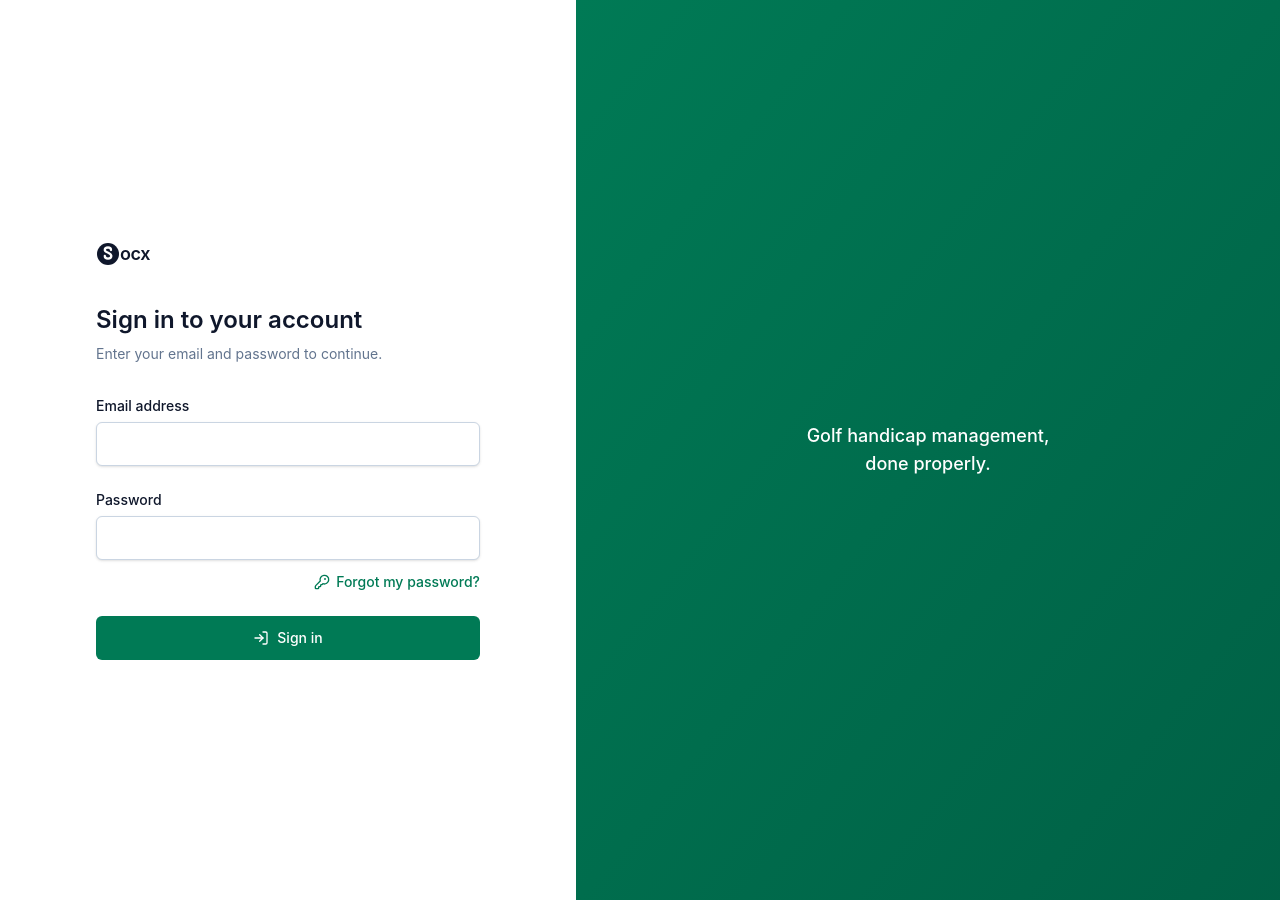
it: LoginPage › shows a form-level error for invalid credentials, using the API's own message (acceptance criterion)
Type "a@example.com" into the field labelled "Email address" at (288, 444), box [96,422,480,466]
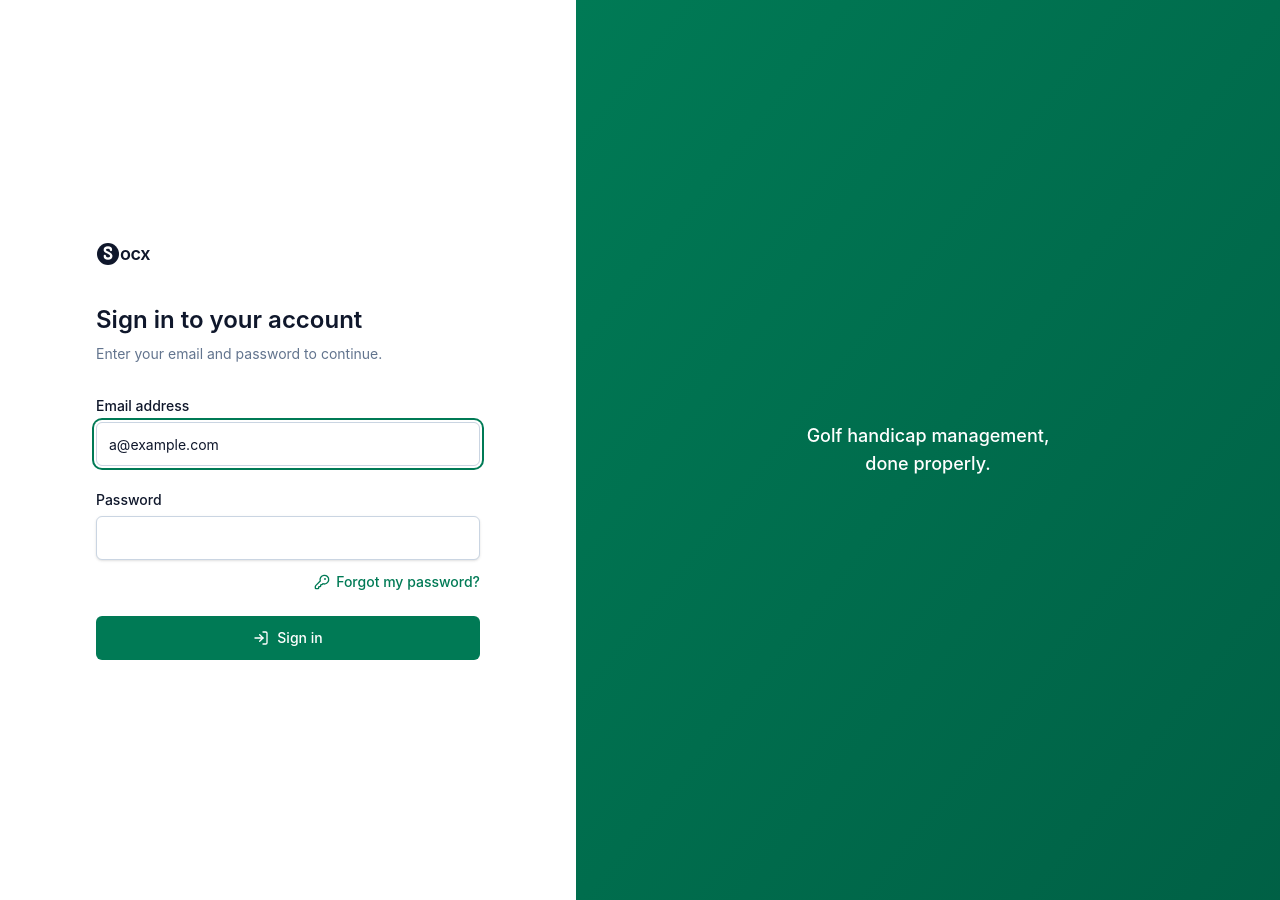
Type "wrong" into the password field labelled "Password" at (288, 538), box [96,516,480,560]
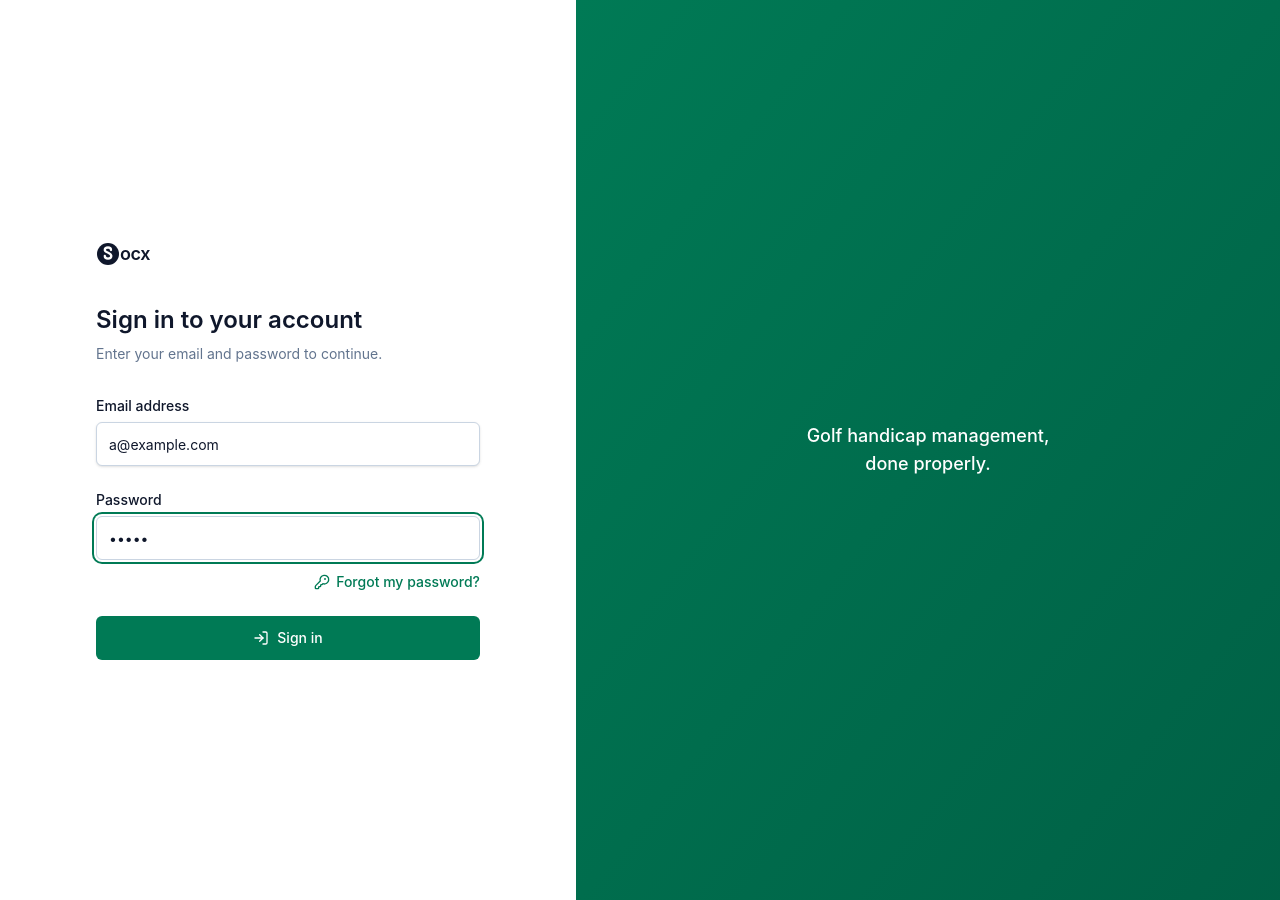
Click the button "Sign in" at (288, 638), box [96,616,480,660]
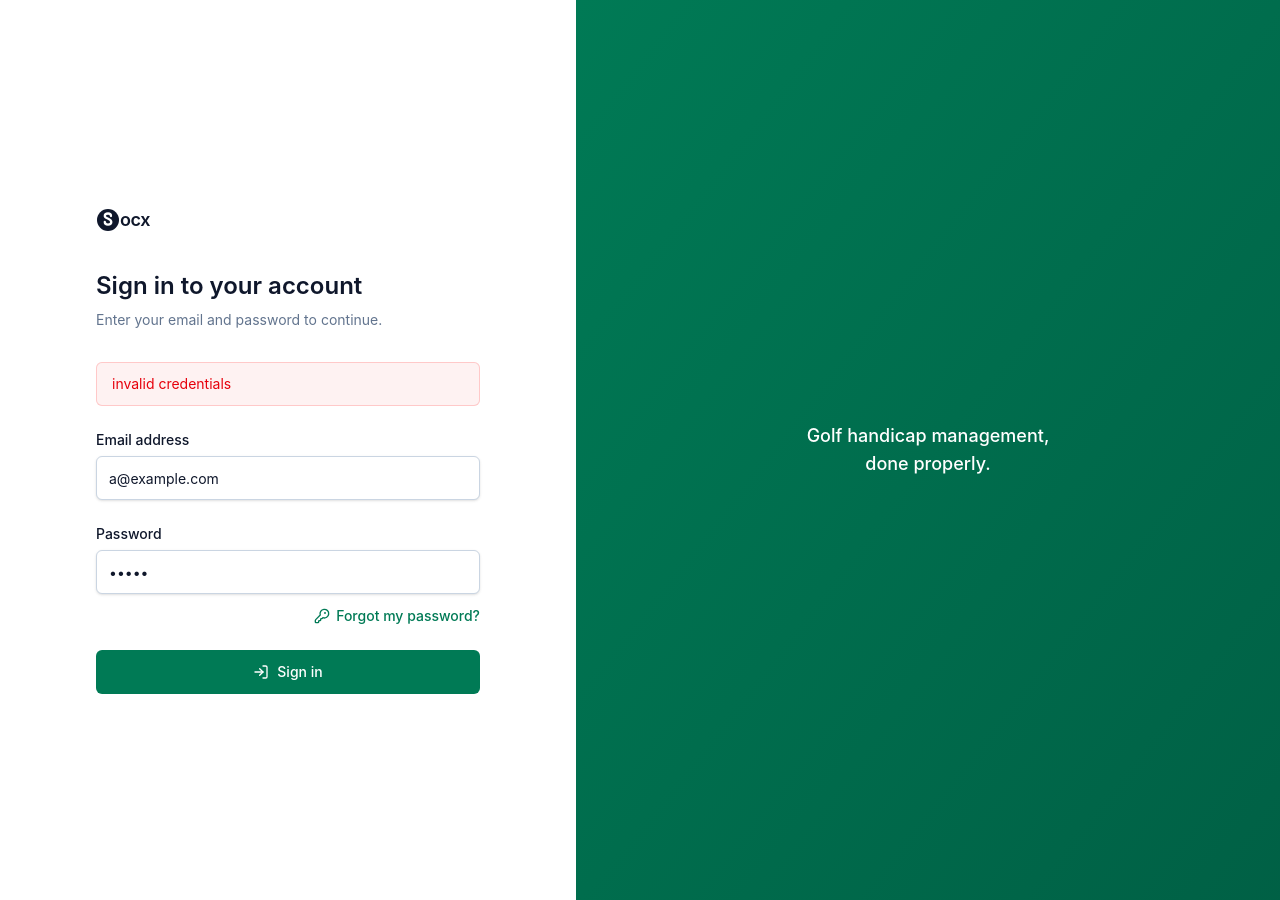
Expected: the message reads "invalid credentials", [112,375,231,392]
